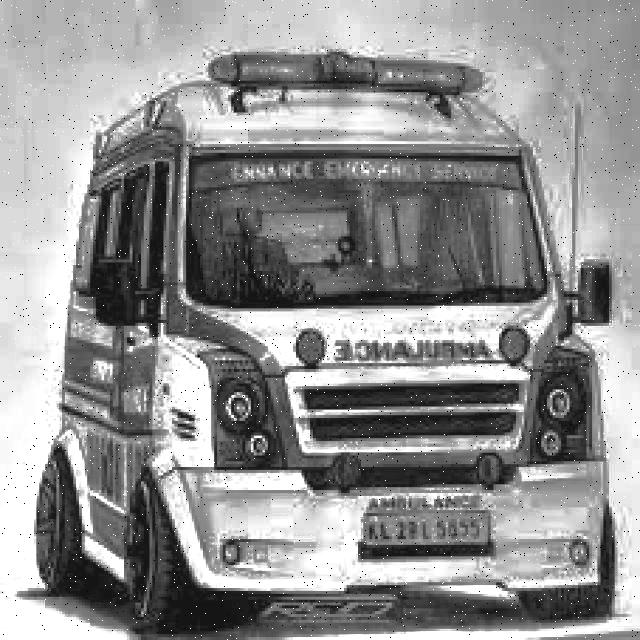LCV: (90, 57, 615, 595)
